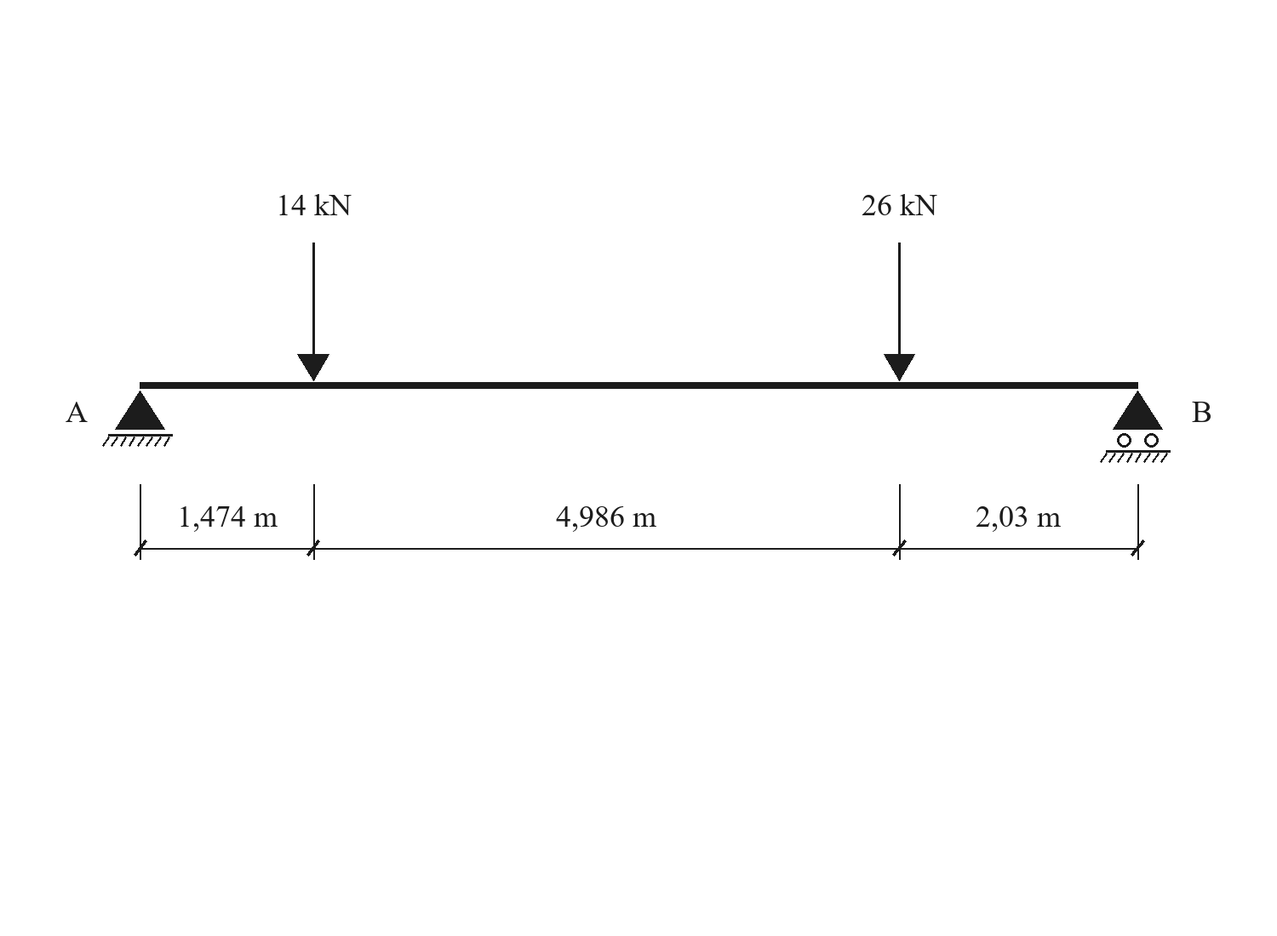pin_support: (102, 391, 173, 447)
point_load: (297, 243, 329, 381), (884, 243, 915, 381)
roller_support: (1100, 391, 1171, 463)
